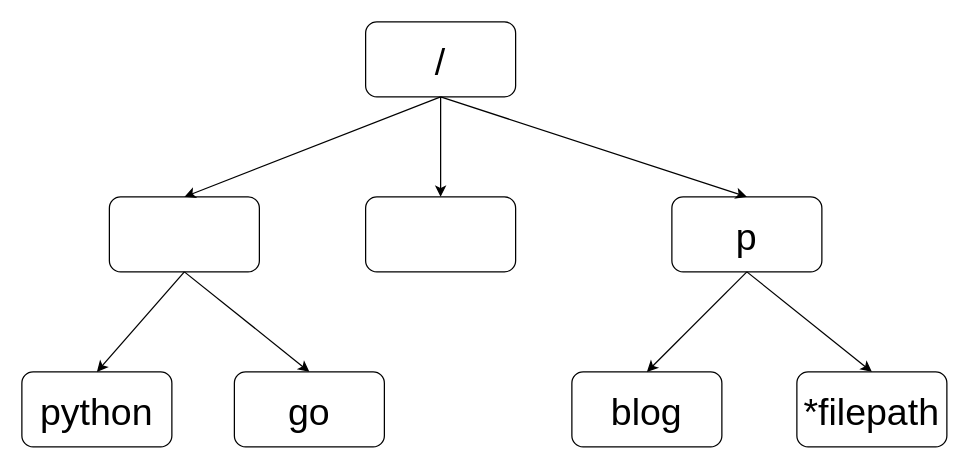
This 969x469 diagram has some shape labels left out. The shapes that lost their labels are listed below. From the top down, each one's centre as x and y in pixels, then its label:
At pixel 183 234: ":lang".
At pixel 440 234: "about".
